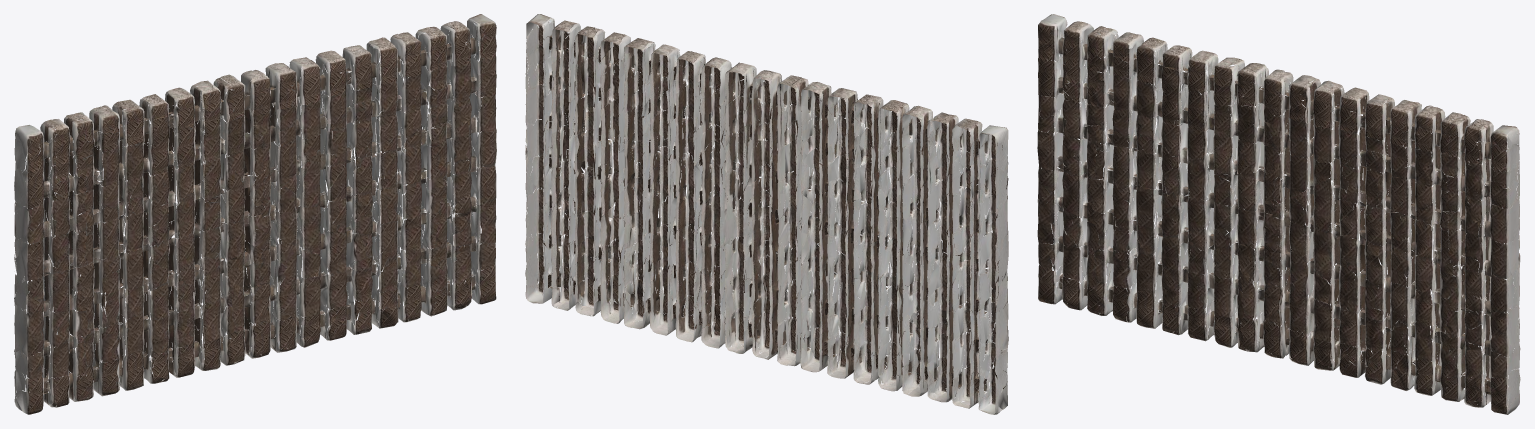
The model's file is bath-shower-mat.glb.
The picture shows the model from 3 angles, left to right: view 1: azimuth 30°, elevation 25°; view 2: azimuth 150°, elevation 25°; view 3: azimuth 330°, elevation 25°; orthographic projection.
Visible parts, largest first — view 1: Mesh_0; view 2: Mesh_0; view 3: Mesh_0.
Boxes of the visible parts, x1=… form: Mesh_0: x1=14, y1=14, x2=496, y2=414; Mesh_0: x1=525, y1=14, x2=1008, y2=414; Mesh_0: x1=1037, y1=14, x2=1520, y2=414.
Bounding box in the file's own units: 1.9 × 1.09 × 0.1023.
Materials: 1 (1 with a texture image).
